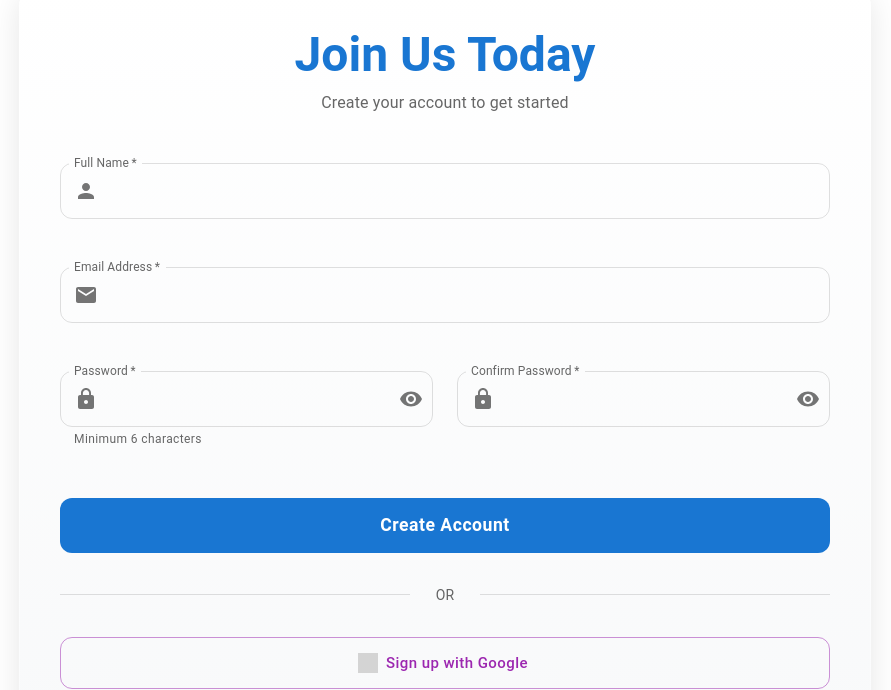
Test: Register Component › handles registration error with no response data
Type "Test User" into the field labelled "Full Name *".
click(468, 191); type("Test User")  # box [106,163,830,219]
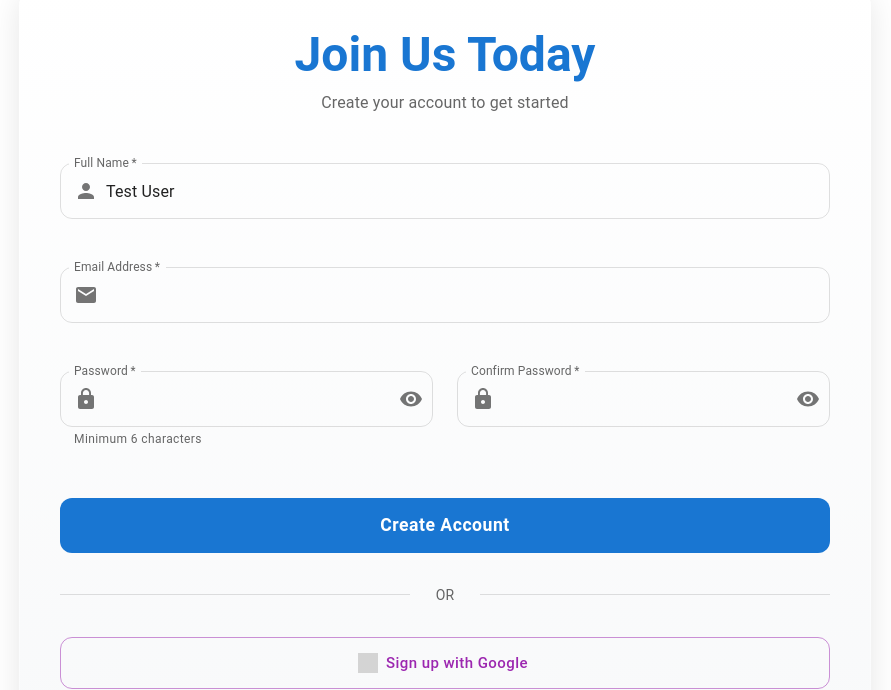
Type "test@example.com" into the field labelled "Email Address *".
click(468, 295); type("test@example.com")  # box [106,267,830,323]
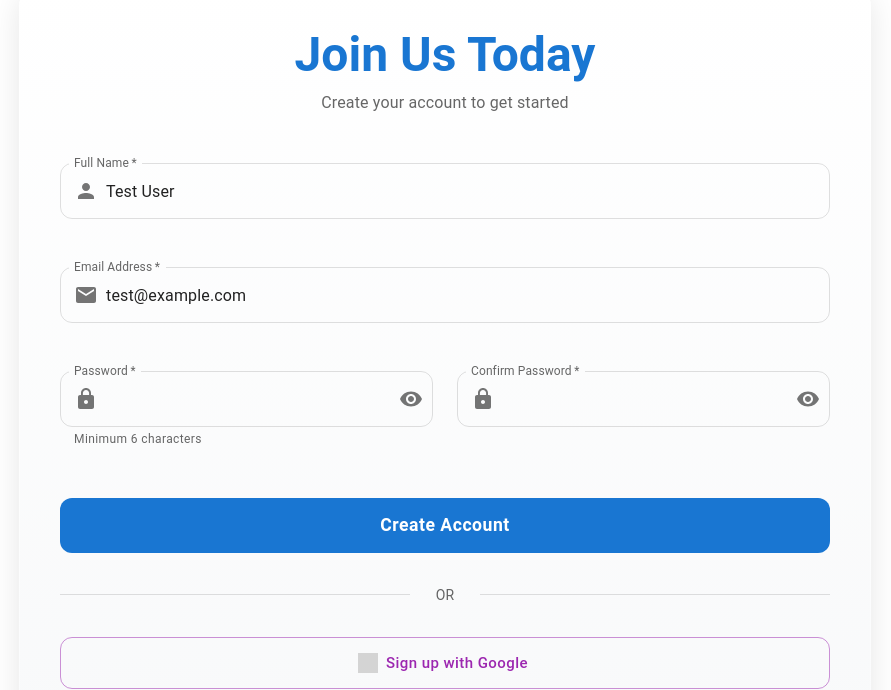
Type "password123" into the password field labelled "Password *".
click(244, 399); type("password123")  # box [106,371,383,427]
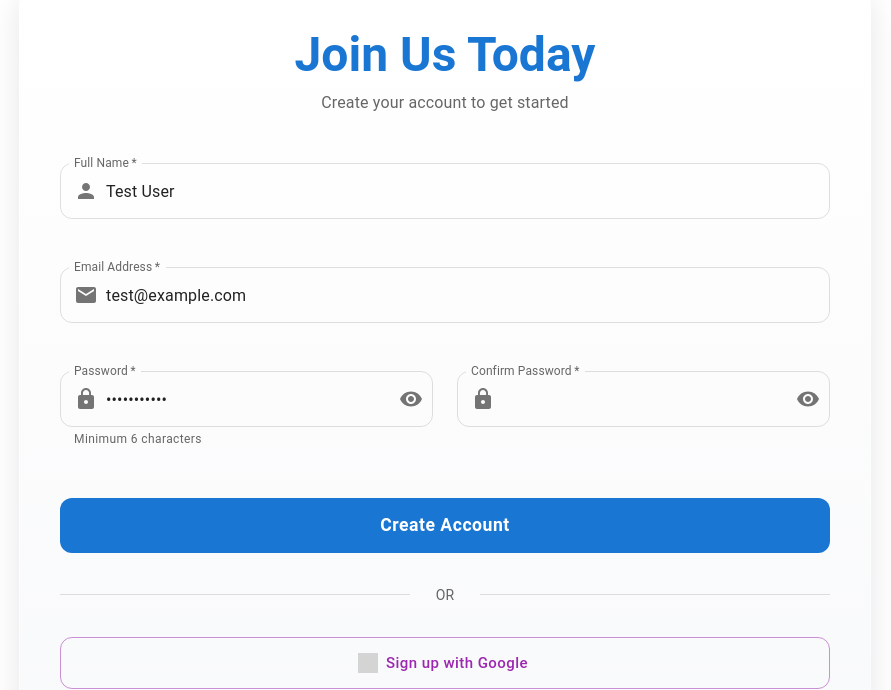
Type "password123" into the password field labelled "Confirm Password *".
click(642, 399); type("password123")  # box [503,371,780,427]
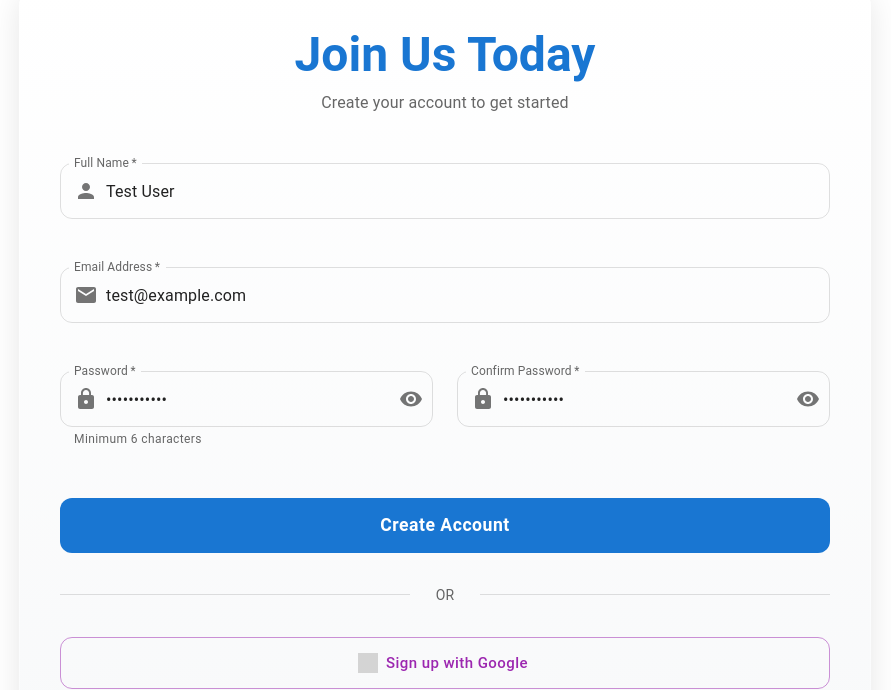
Click the button "Create Account".
click(445, 525)  # box [60,498,830,553]
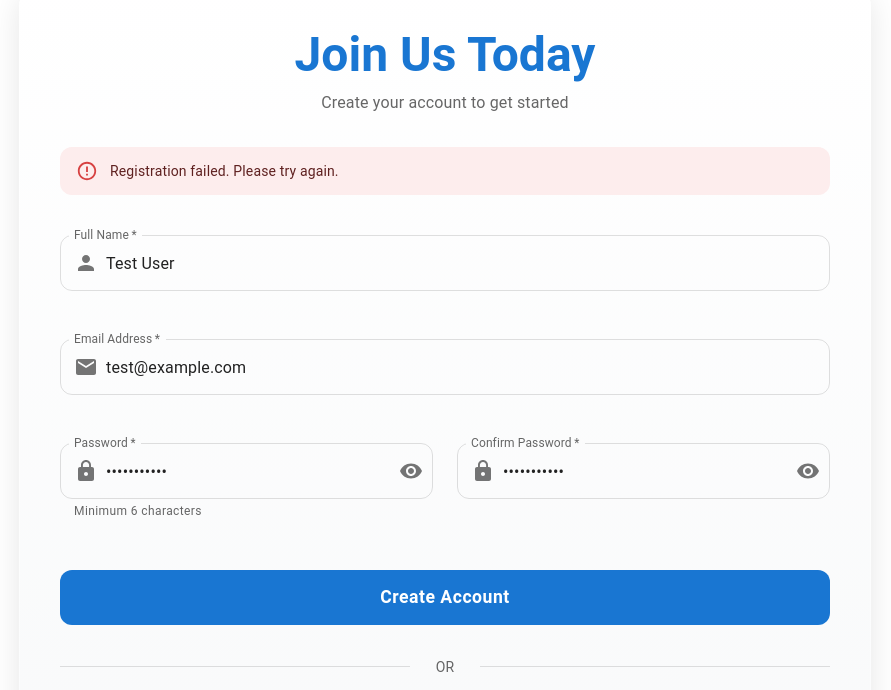
Expected: the text "Registration failed. Please try again." is shown, [110,163,339,179]
